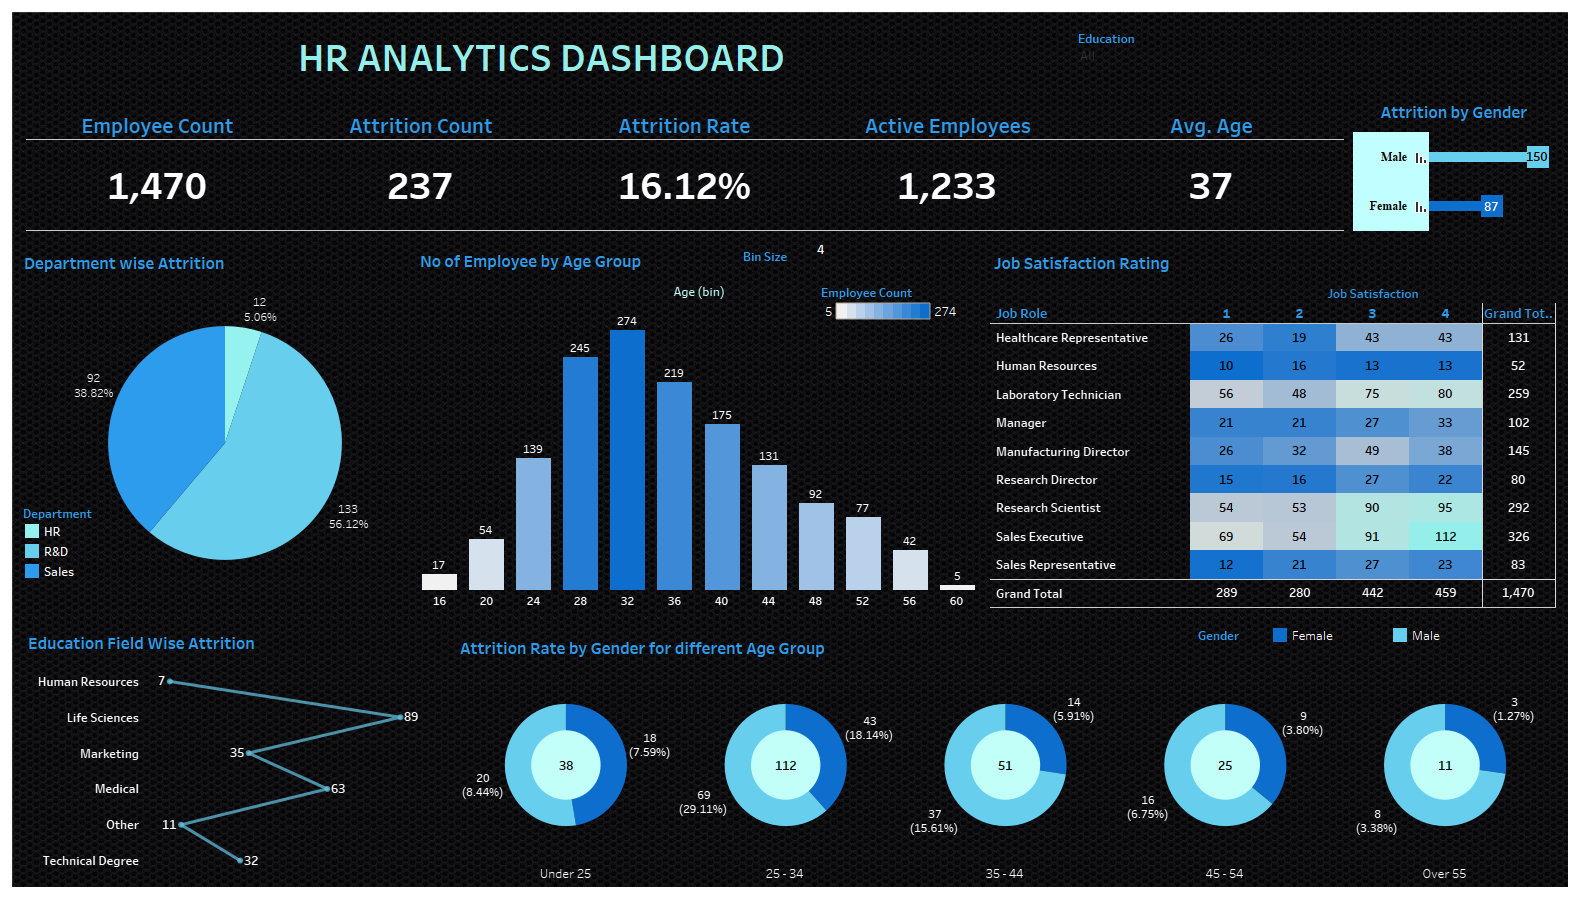

This screenshot's page, from the dashboard's own definition file:
{"tool":"tableau","page":{"name":"HR Analytics Dashboard","canvas":[1580,900],"ordinal":0},"visuals":[{"type":"image","param":"Image/StreetShit.jfif","box":[8,8,1564,884]},{"type":"text","box":[20,22,1043,68]},{"type":"filter","title":"No of Employee by Age Group","param":"[federated.0pebv5t00q6y1b101v80u0bdf06h].[none:Education:nk]","box":[1078,29,434,64]},{"type":"worksheet","title":"Attrition by Gender","mark":"Automatic","rows":["Gender"],"cols":["Calculation_690458131331940352","Calculation_690458131331940352"],"box":[1353,95,202,136]},{"type":"worksheet","title":"Count","mark":"Automatic","box":[26,99,1318,132]},{"type":"parameter","param":"[Parameters].[Parameter 1]","box":[743,241,229,31]},{"type":"worksheet","title":"No of Employee by Age Group","mark":"Automatic","rows":["Employee Count"],"cols":["Age (bin)"],"box":[416,244,565,366]},{"type":"worksheet","title":"Department wise Attrition","mark":"Pie","box":[20,246,410,357]},{"type":"worksheet","title":"Job Satisfaction Rating","mark":"Square","rows":["Job Role"],"cols":["Job Satisfaction"],"box":[990,246,566,362]},{"type":"legend","title":"No of Employee by Age Group","param":"[federated.0pebv5t00q6y1b101v80u0bdf06h].[sum:Employee Count:qk]","box":[821,280,140,47]},{"type":"legend","title":"Department wise Attrition","param":"[federated.0pebv5t00q6y1b101v80u0bdf06h].[none:Department:nk]","box":[22,503,136,88]},{"type":"legend","title":"Attrition Rate by Gender for different Age Group","param":"[federated.0pebv5t00q6y1b101v80u0bdf06h].[none:Gender:nk]","box":[1198,625,360,25]},{"type":"worksheet","title":"Education Field Wise Attrition","mark":"Line","rows":["Education Field"],"cols":["Calculation_690458131331940352"],"box":[24,626,421,252]},{"type":"worksheet","title":"Attrition Rate by Gender for different Age Group","mark":"Pie","rows":["Calculation_690458131443294212","Calculation_690458131443294212"],"cols":["CF_age band"],"box":[456,631,1099,252]}]}

Visuals, with their boxes in screenshot pixels (x1, y1, x2, y2), scaled from the page's 1580x900 canvas onto the 1580x900 screenshot:
image: [8,8,1572,892]
text: [20,22,1063,90]
"No of Employee by Age Group" filter: [1078,29,1512,93]
"Attrition by Gender" worksheet: [1353,95,1555,231]
"Count" worksheet: [26,99,1344,231]
parameter: [743,241,972,272]
"No of Employee by Age Group" worksheet: [416,244,981,610]
"Department wise Attrition" worksheet (Pie marks): [20,246,430,603]
"Job Satisfaction Rating" worksheet (Square marks): [990,246,1556,608]
"No of Employee by Age Group" legend: [821,280,961,327]
"Department wise Attrition" legend: [22,503,158,591]
"Attrition Rate by Gender for different Age Group" legend: [1198,625,1558,650]
"Education Field Wise Attrition" worksheet (Line marks): [24,626,445,878]
"Attrition Rate by Gender for different Age Group" worksheet (Pie marks): [456,631,1555,883]
